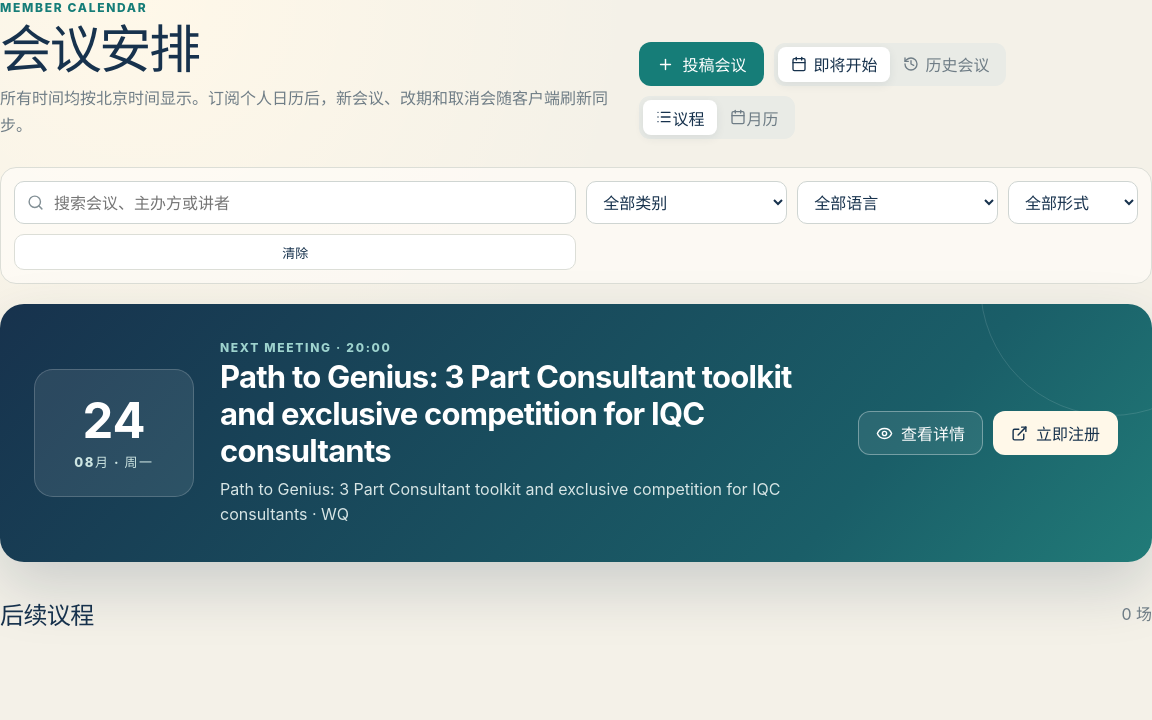
Test: CalendarView › keeps long month titles inside an equal-width calendar cell
Click the button "月历".
click(754, 118)  # box [717,100,791,136]
(page scrolled)
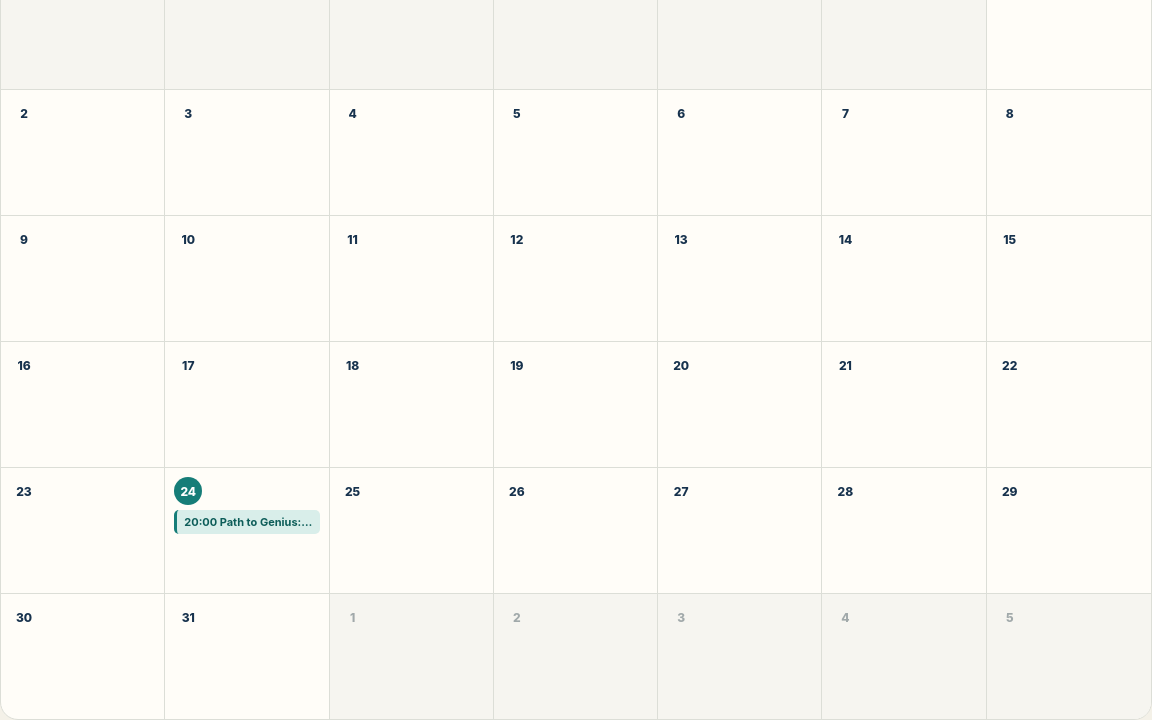
Check: the link with class "calendar-chip" is shown, box [174,510,320,534]
